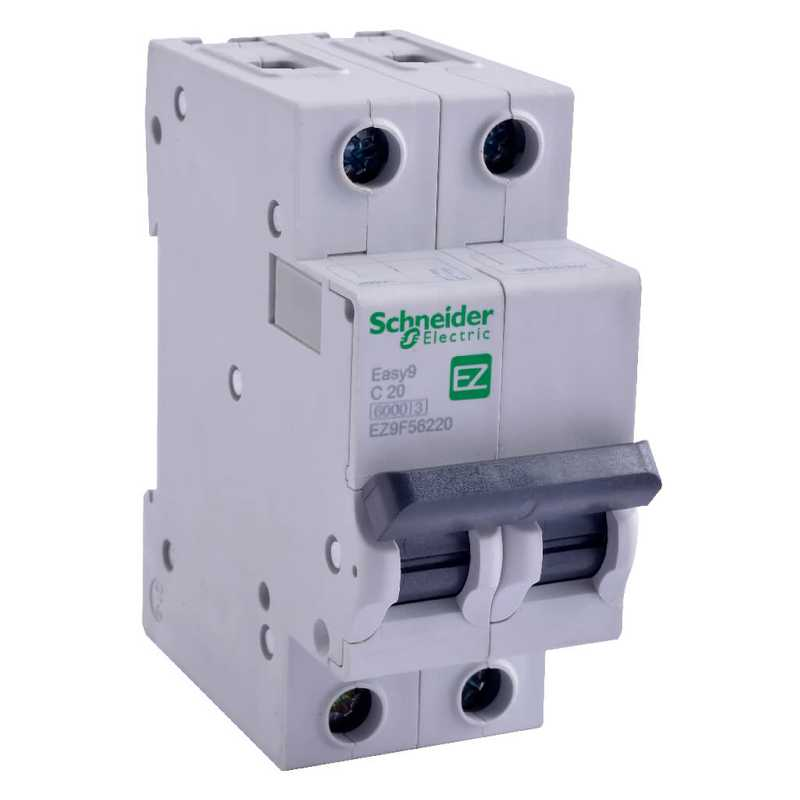BREACKER: (127, 17, 671, 781)
